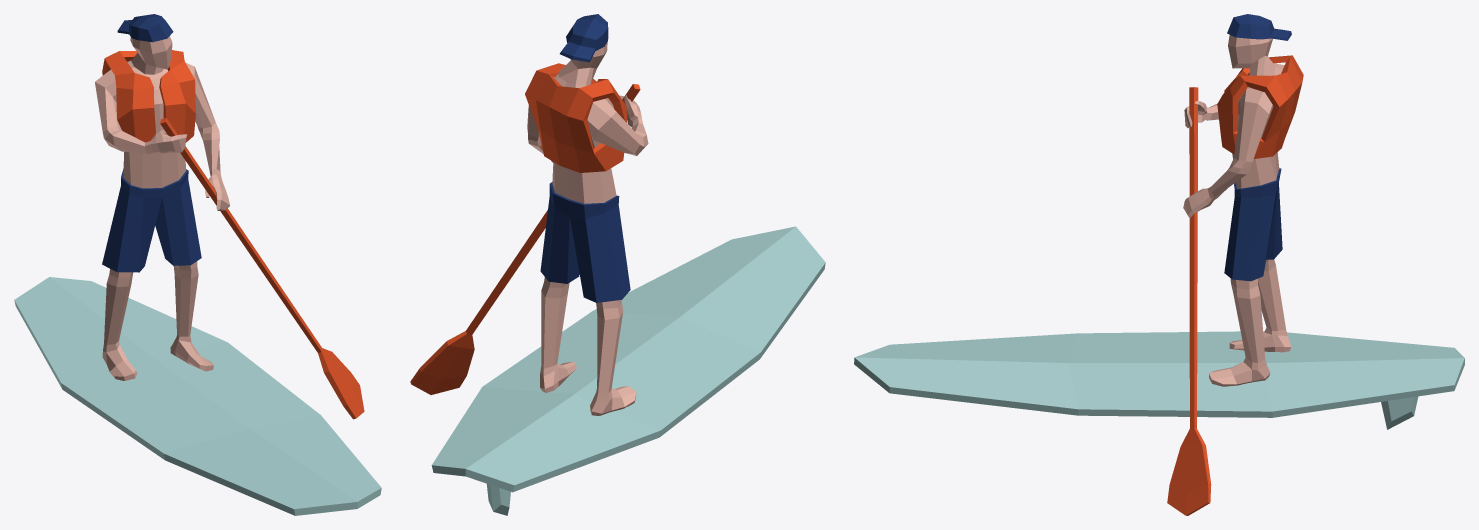
The model's file is model_padlesurfing_00.FBX.
3 renders of one model, left to right at view 1: azimuth 30°, elevation 25°; view 2: azimuth 150°, elevation 25°; view 3: azimuth 270°, elevation 25°, orthographic. The views are drawn at different scales.
Parts seen in each view (by area): view 1: Model_padlesurf; view 2: Model_padlesurf; view 3: Model_padlesurf.
Part boxes in pixels (box(x1,y1,x2,y2)): Model_padlesurf: box(14, 14, 381, 515); Model_padlesurf: box(410, 14, 825, 515); Model_padlesurf: box(854, 14, 1464, 515).
Size of the model in its own units: 32.66 by 48.95 by 65.47.
